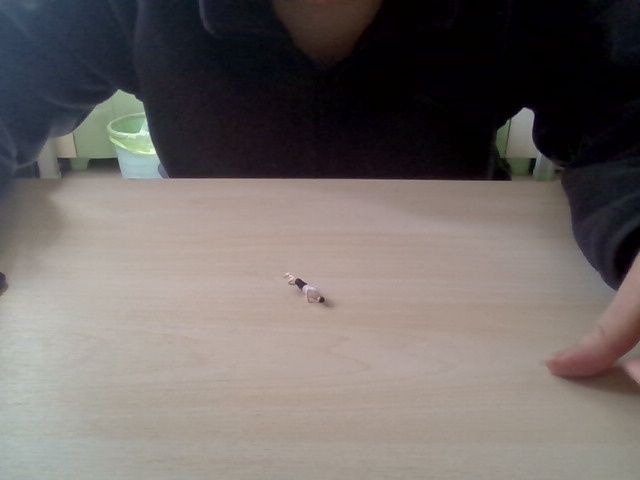fall: (281, 267, 327, 307)
